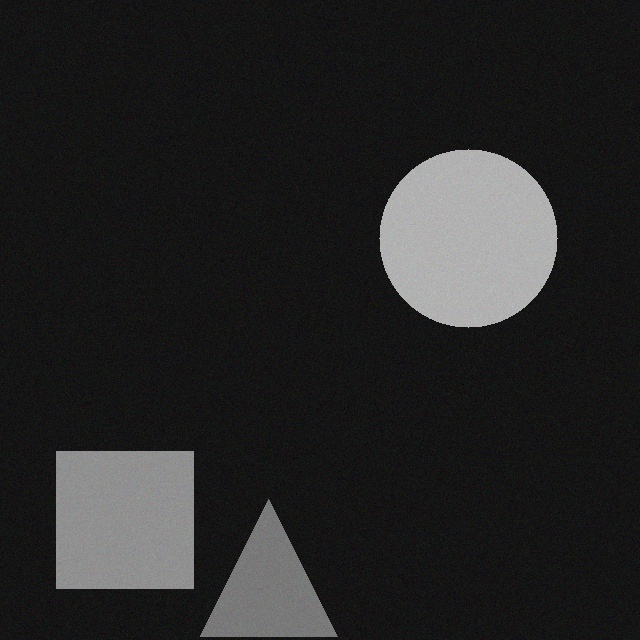circle: (393, 144, 571, 322)
square: (70, 446, 207, 583)
triangle: (214, 494, 351, 631)
